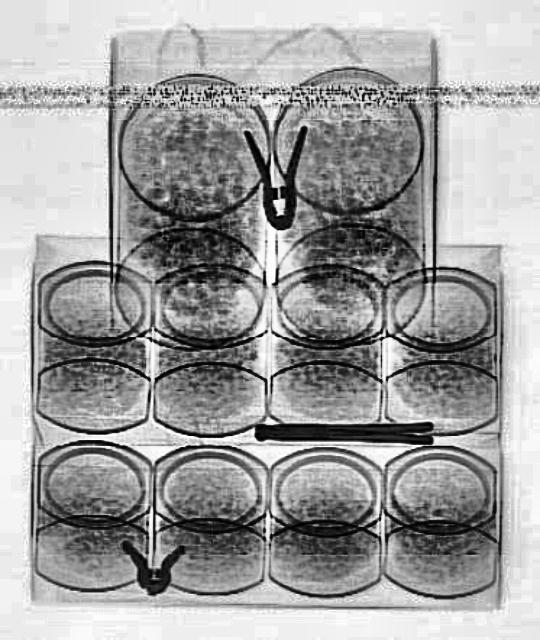Pliers: (242, 123, 309, 230), (254, 420, 430, 442)
